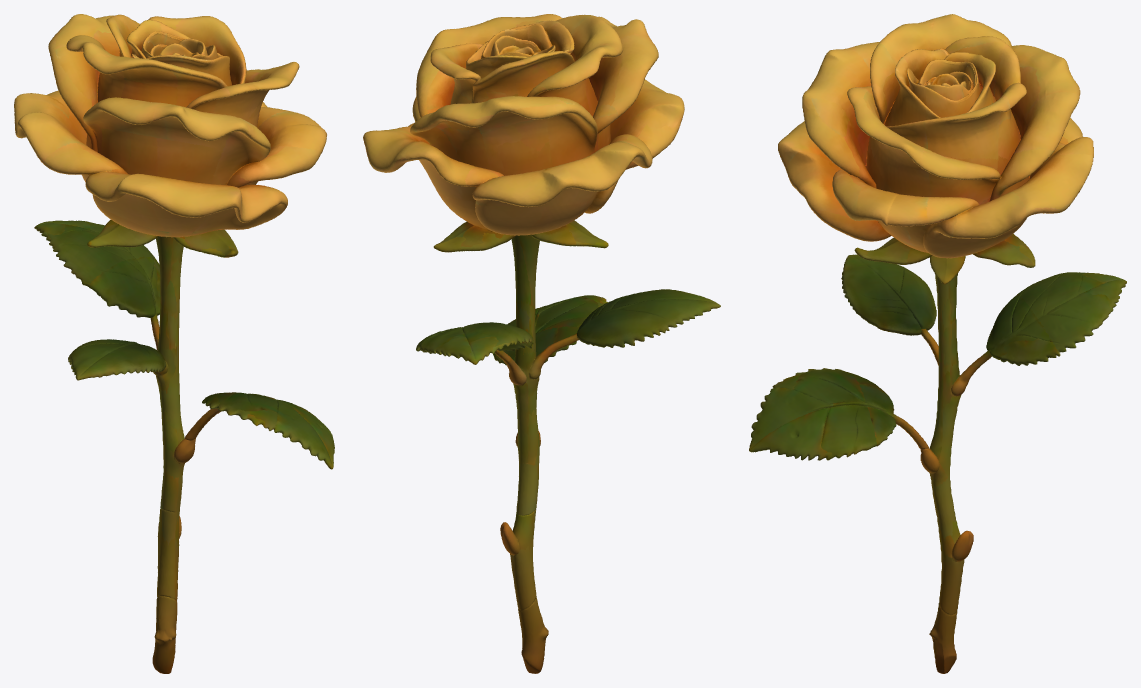
File: yellow rose 1.glb
3 renders of one model, left to right at view 1: azimuth 30°, elevation 25°; view 2: azimuth 150°, elevation 25°; view 3: azimuth 270°, elevation 25°, orthographic. The views are drawn at different scales.
Parts seen in each view (by area): view 1: tripo_node_60bd23a7-ee56-4c40-8f30-7c77a707e801; view 2: tripo_node_60bd23a7-ee56-4c40-8f30-7c77a707e801; view 3: tripo_node_60bd23a7-ee56-4c40-8f30-7c77a707e801.
Part boxes in pixels (x1,y1,x2,y2): tripo_node_60bd23a7-ee56-4c40-8f30-7c77a707e801: (14, 14, 334, 673); tripo_node_60bd23a7-ee56-4c40-8f30-7c77a707e801: (363, 14, 720, 673); tripo_node_60bd23a7-ee56-4c40-8f30-7c77a707e801: (749, 14, 1126, 673).
Size of the model in its own units: 0.4313 by 0.9794 by 0.5386.
Materials: 1 (1 with a texture image).
